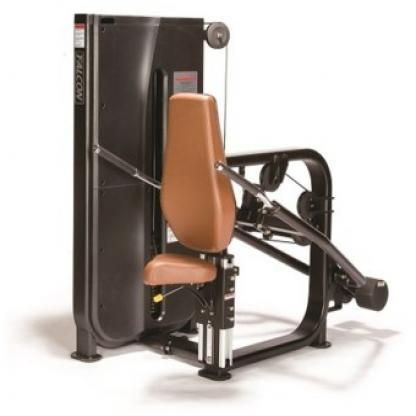seated dip machine: (61, 9, 393, 388)
